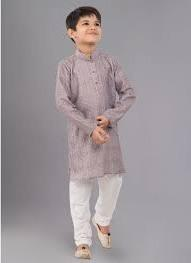Human: (47, 2, 133, 258)
